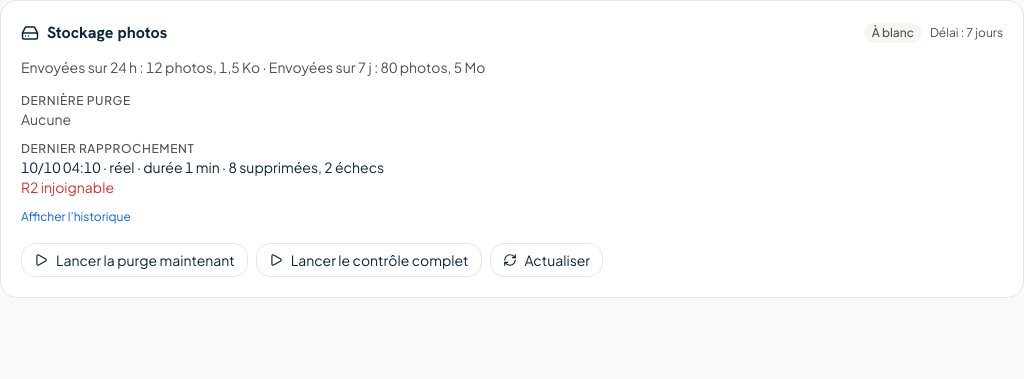
Scenario: PhotoStorageCard › l'historique affiche les erreurs des passages et « Aucune » sans purge
Check: the element with test id "last-purge" shows "Aucune", box [21,110,71,128]
Click the button with test id "history-toggle" at point(76, 217), box [21,209,131,225]
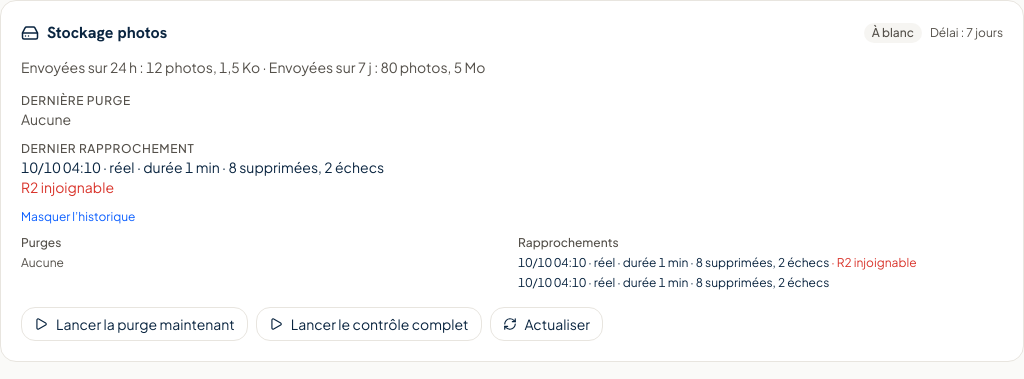
Check: the button with test id "history-toggle" reads "Masquer l’historique", box [21,209,135,225]
Check: the element with test id "history" shows "Aucune", box [21,255,64,270]
Check: the number of list items with test id "history-reconcile" is 2, box [518,255,916,270]; [518,275,829,290]
